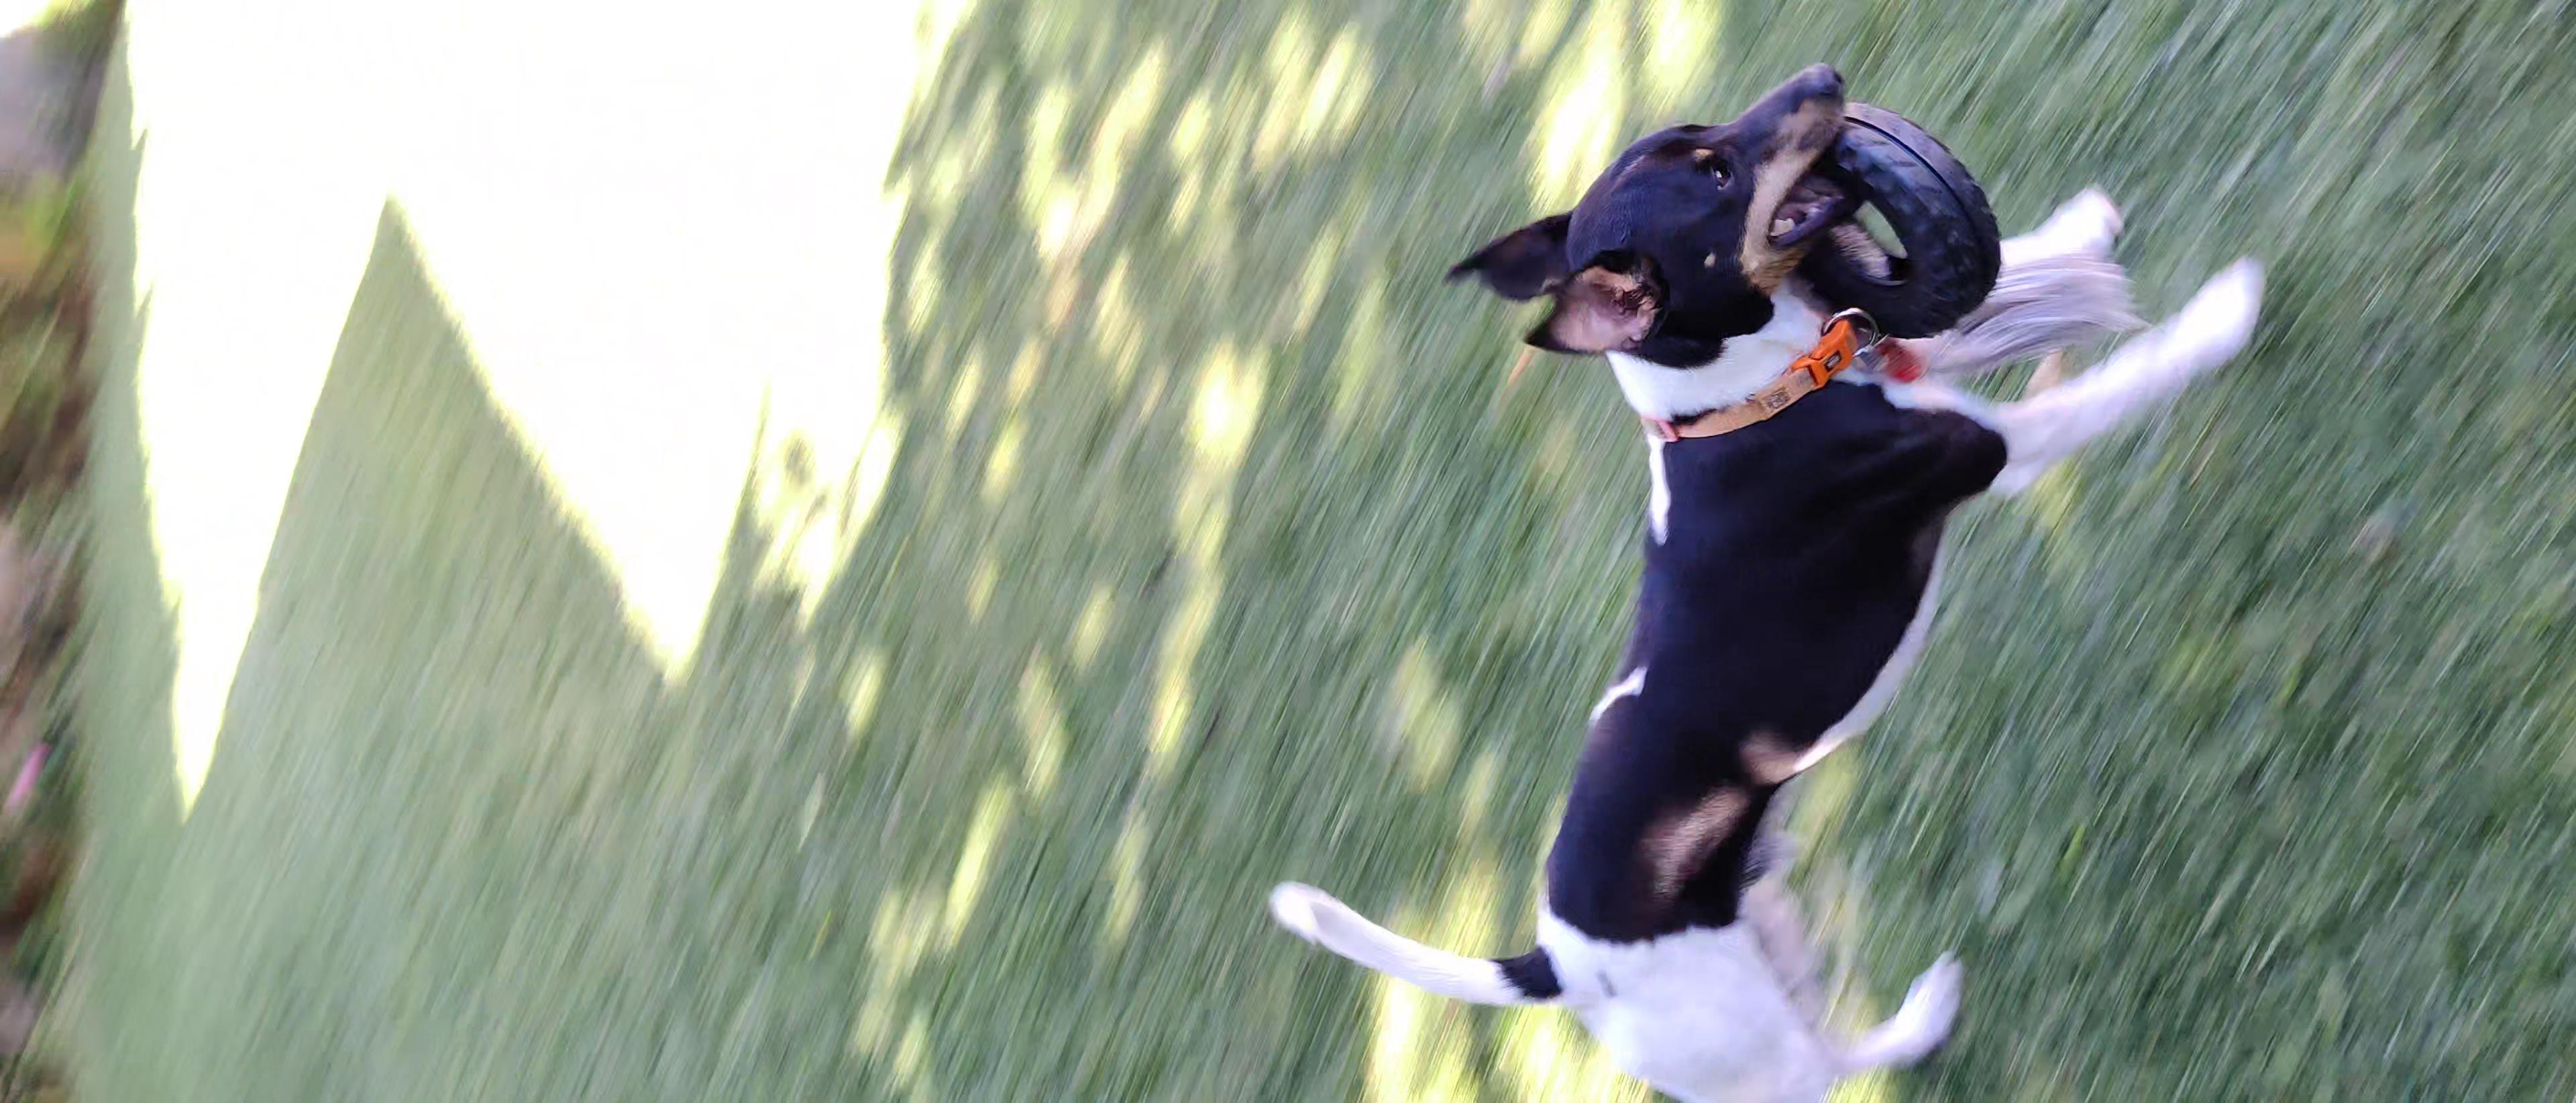Dog: (1252, 49, 2280, 1103)
